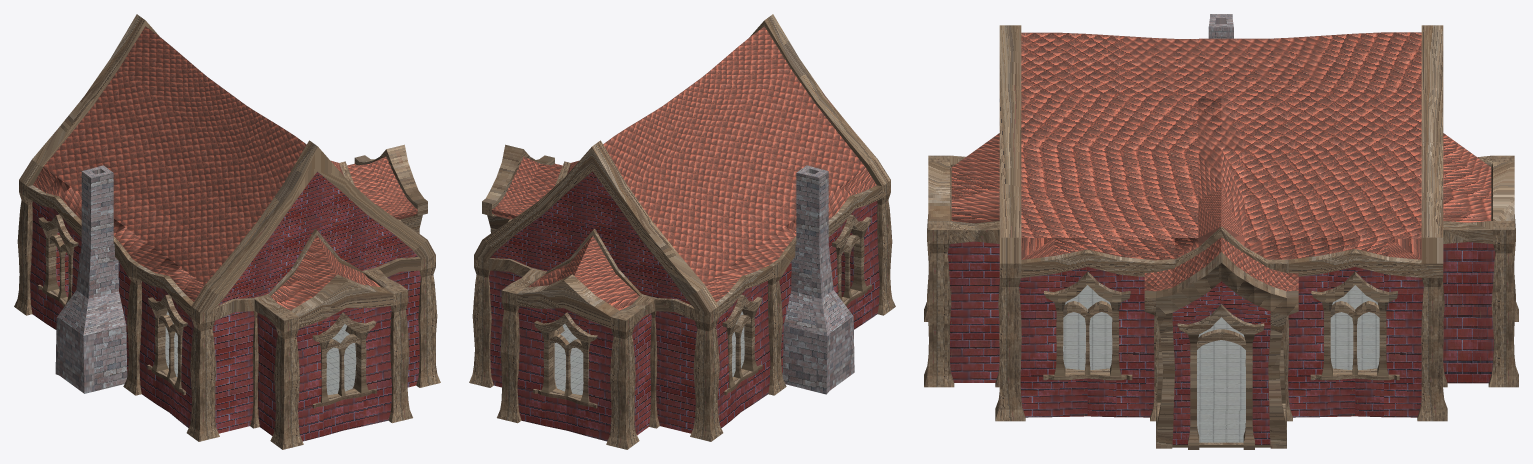
File: Fantasy_House.glb
3 views of the same model, side by side, from view 1: azimuth 30°, elevation 25°; view 2: azimuth 150°, elevation 25°; view 3: azimuth 270°, elevation 25° (orthographic). The views are drawn at different scales.
Visible parts, largest first — view 1: House; view 2: House; view 3: House.
Part boxes in pixels (x1,y1,x2,y2): House: [14, 14, 440, 449]; House: [469, 14, 895, 449]; House: [924, 14, 1518, 449].
Size of the model in its own units: 15.93 by 12.06 by 20.01.
Materials: 7 (6 with a texture image).
